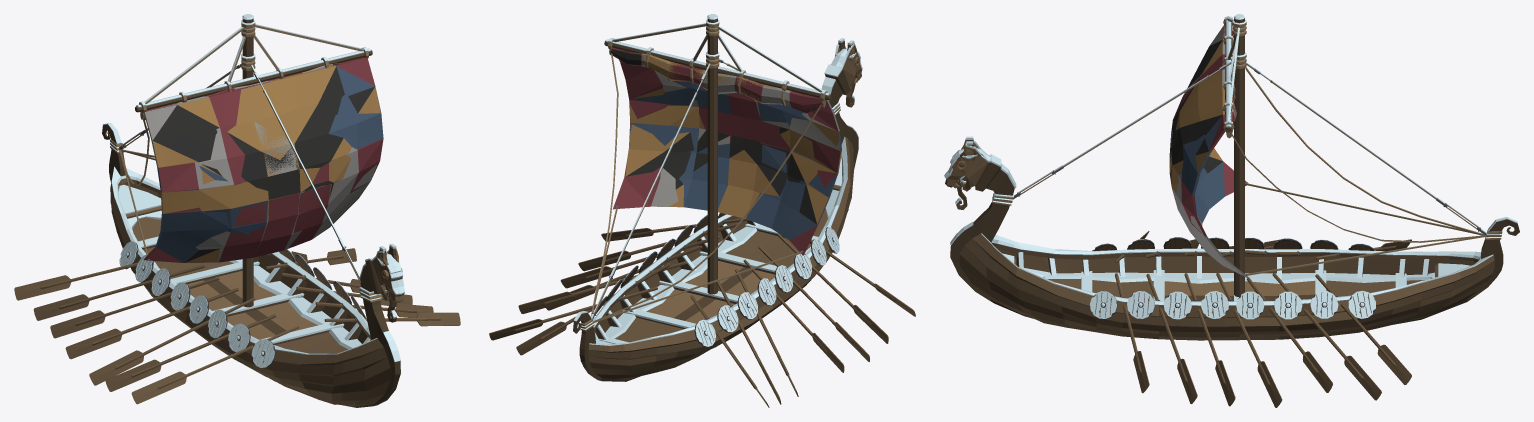
The model's file is Barco_Completo.glb.
The picture shows the model from 3 angles, left to right: view 1: azimuth 30°, elevation 25°; view 2: azimuth 150°, elevation 25°; view 3: azimuth 270°, elevation 25°; orthographic projection. The views are drawn at different scales.
Parts seen in each view (by area): view 1: SM_Veh_Boat_01_Snow, SM_Veh_Sail_Open_04, SM_Veh_Sail_Open_01, SM_Veh_Oars_01, SM_Veh_Sail_Open_02, SM_Veh_Sail_Open_03, SM_Veh_BoatHead_01_Snow, SM_Veh_BoatHead_02_Snow, SM_Veh_Sail_Closed_01; view 2: SM_Veh_Boat_01_Snow, SM_Veh_Sail_Open_04, SM_Veh_Oars_01, SM_Veh_Sail_Open_03, SM_Veh_Sail_Open_01, SM_Veh_Sail_Open_02, SM_Veh_Sail_Closed_01, SM_Veh_Sail_Closed_04, SM_Veh_BoatHead_02_Snow, SM_Veh_BoatHead_01_Snow; view 3: SM_Veh_Boat_01_Snow, SM_Veh_Oars_01, SM_Veh_Sail_Open_04, SM_Veh_Sail_Open_01, SM_Veh_Sail_Open_03, SM_Veh_Sail_Closed_01, SM_Veh_BoatHead_02_Snow, SM_Veh_Sail_Open_02, SM_Veh_BoatHead_01_Snow.
Boxes of the visible parts, x1,y1,x2,y2 form: SM_Veh_Boat_01_Snow: (102, 14, 400, 407); SM_Veh_Sail_Open_04: (152, 65, 380, 262); SM_Veh_Sail_Open_01: (119, 57, 383, 262); SM_Veh_Oars_01: (14, 248, 460, 404); SM_Veh_Sail_Open_02: (144, 81, 377, 262); SM_Veh_Sail_Open_03: (157, 66, 383, 233); SM_Veh_BoatHead_01_Snow: (372, 243, 404, 322); SM_Veh_BoatHead_02_Snow: (372, 247, 402, 300); SM_Veh_Sail_Closed_01: (120, 58, 359, 185); SM_Veh_Boat_01_Snow: (573, 14, 858, 381); SM_Veh_Sail_Open_04: (624, 88, 839, 224); SM_Veh_Oars_01: (489, 218, 915, 407); SM_Veh_Sail_Open_03: (625, 81, 841, 240); SM_Veh_Sail_Open_01: (590, 59, 838, 322); SM_Veh_Sail_Open_02: (620, 78, 840, 224); SM_Veh_Sail_Closed_01: (591, 47, 825, 321); SM_Veh_Sail_Closed_04: (591, 49, 823, 318); SM_Veh_BoatHead_02_Snow: (832, 42, 860, 87); SM_Veh_BoatHead_01_Snow: (831, 38, 862, 107); SM_Veh_Boat_01_Snow: (950, 14, 1519, 340); SM_Veh_Oars_01: (1115, 231, 1411, 407); SM_Veh_Sail_Open_04: (1169, 39, 1225, 225); SM_Veh_Sail_Open_01: (1171, 25, 1486, 276); SM_Veh_Sail_Open_03: (1169, 69, 1224, 223); SM_Veh_Sail_Closed_01: (1223, 27, 1484, 242); SM_Veh_BoatHead_02_Snow: (952, 138, 988, 190); SM_Veh_Sail_Open_02: (1170, 25, 1248, 277); SM_Veh_BoatHead_01_Snow: (944, 136, 990, 209).
Bounding box in the file's own units: 9.77 × 9.56 × 15.42.
1 material, 1 textured.
